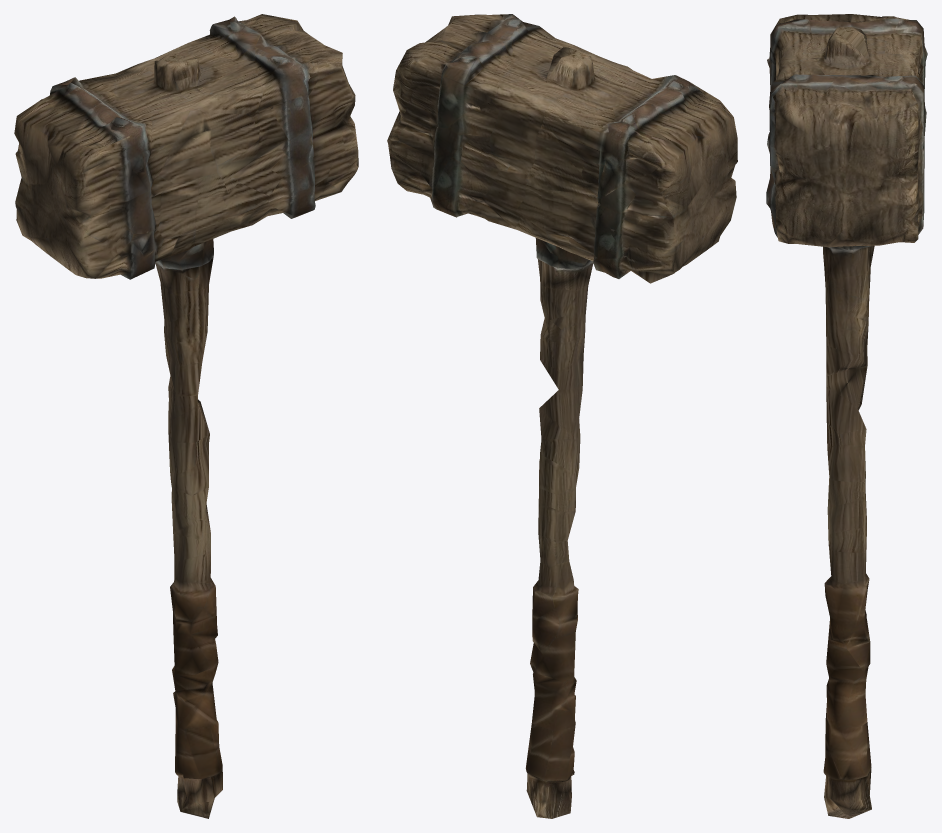
The model's file is 1504_hammer.glb.
3 renders of one model, left to right at view 1: azimuth 30°, elevation 25°; view 2: azimuth 150°, elevation 25°; view 3: azimuth 270°, elevation 25°, orthographic.
Visible parts, largest first — view 1: Model; view 2: Model; view 3: Model.
Boxes of the visible parts, <box> form: Model: <box>14,14,358,818</box>; Model: <box>387,14,737,818</box>; Model: <box>766,14,927,818</box>.
Size of the model in its own units: 0.3954 by 1 by 0.1886.
Materials: 1 (1 with a texture image).
